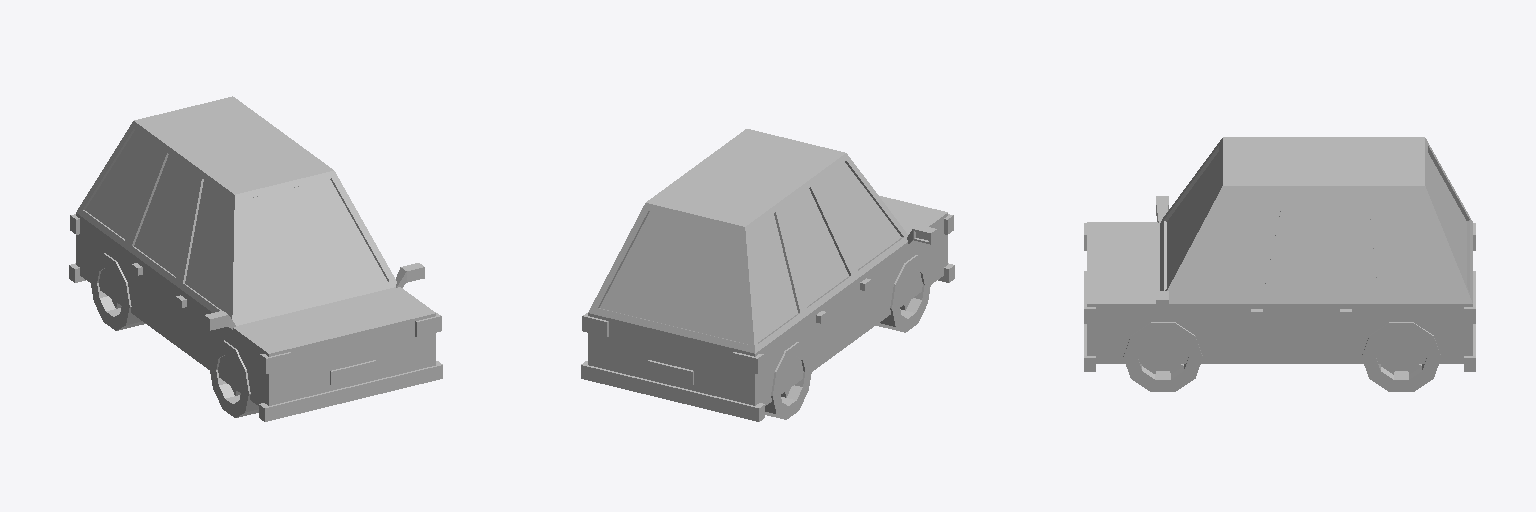
Rendered from Coche3.obj.
The picture shows the model from 3 angles: view 1: azimuth 30°, elevation 25°; view 2: azimuth 150°, elevation 25°; view 3: azimuth 270°, elevation 25°; orthographic projection.
Parts seen in each view (by area): view 1: Cube.007; view 2: Cube.007; view 3: Cube.007.
Part boxes in pixels (x1,y1,x2,y2): Cube.007: (69,96,442,421); Cube.007: (581,129,954,421); Cube.007: (1084,137,1475,391).
Bounding box in the file's own units: 2.57 × 2.16 × 4.06.